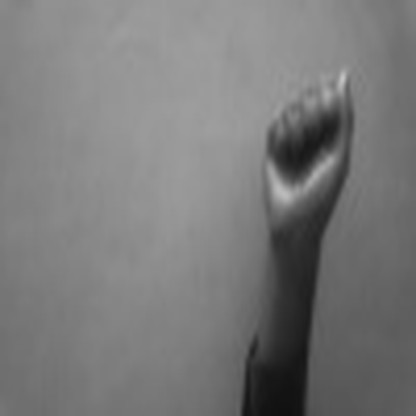a: (251, 44, 360, 227)
